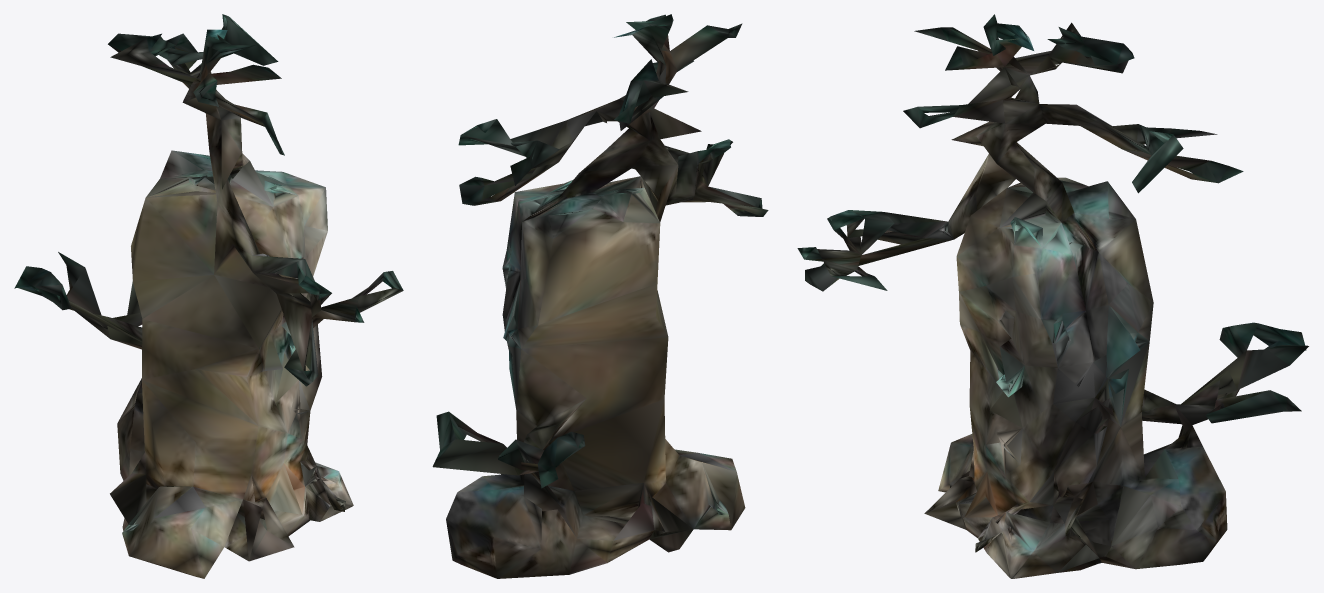
The model's file is pine.glb.
3 renders of one model, left to right at view 1: azimuth 30°, elevation 25°; view 2: azimuth 150°, elevation 25°; view 3: azimuth 270°, elevation 25°, orthographic. The views are drawn at different scales.
Parts seen in each view (by area): view 1: tripo_node_2cf1143d-e8ae-45f0-b537-8b4009ab1770; view 2: tripo_node_2cf1143d-e8ae-45f0-b537-8b4009ab1770; view 3: tripo_node_2cf1143d-e8ae-45f0-b537-8b4009ab1770.
Part boxes in pixels (<box>): tripo_node_2cf1143d-e8ae-45f0-b537-8b4009ab1770: <box>14,14,403,578</box>; tripo_node_2cf1143d-e8ae-45f0-b537-8b4009ab1770: <box>432,14,768,578</box>; tripo_node_2cf1143d-e8ae-45f0-b537-8b4009ab1770: <box>797,14,1308,578</box>.
Size of the model in its own units: 1.46 by 3.15 by 2.97.
1 material, 1 textured.
